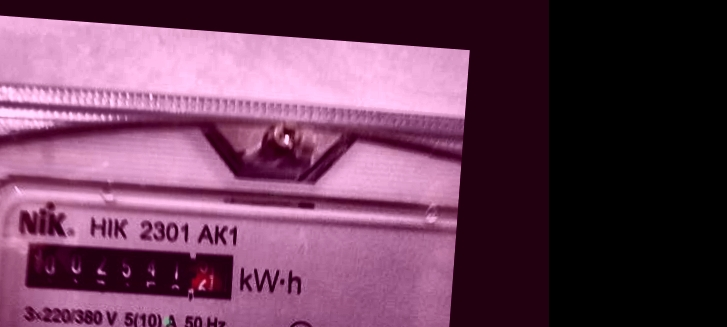0: (39, 250, 59, 277), (67, 249, 83, 277)
1: (167, 254, 182, 282)
2: (92, 251, 109, 277)
4: (144, 253, 158, 277)
5: (116, 251, 136, 281)
6: (194, 273, 210, 292)
screen: (12, 226, 249, 314)
